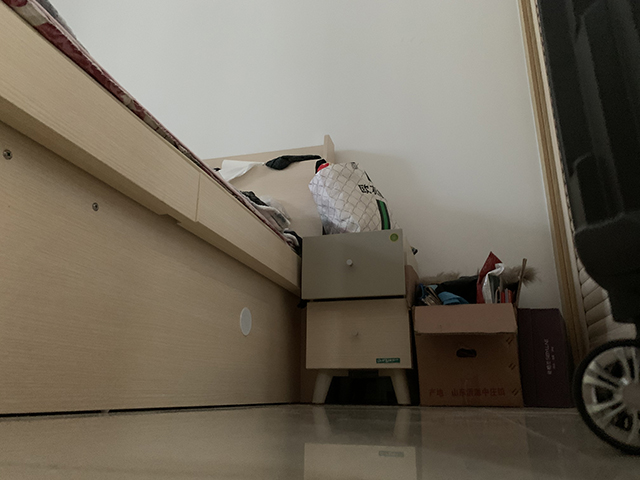bed: (1, 1, 336, 418)
cabinet: (299, 226, 415, 407)
